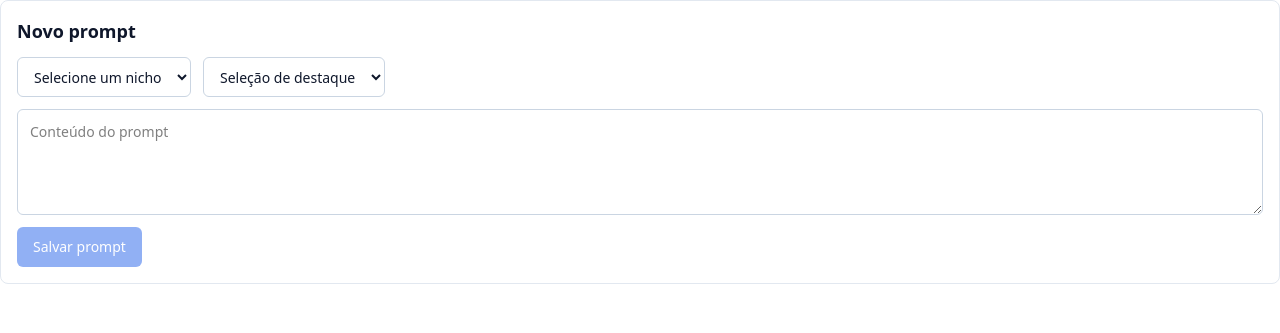
Test case: PromptTemplateForm › should create a prompt template and show the resulting version
Select "Futebol" in the 1st dropdown showing "Selecione um nicho" at (104, 77), box [17,57,191,97]
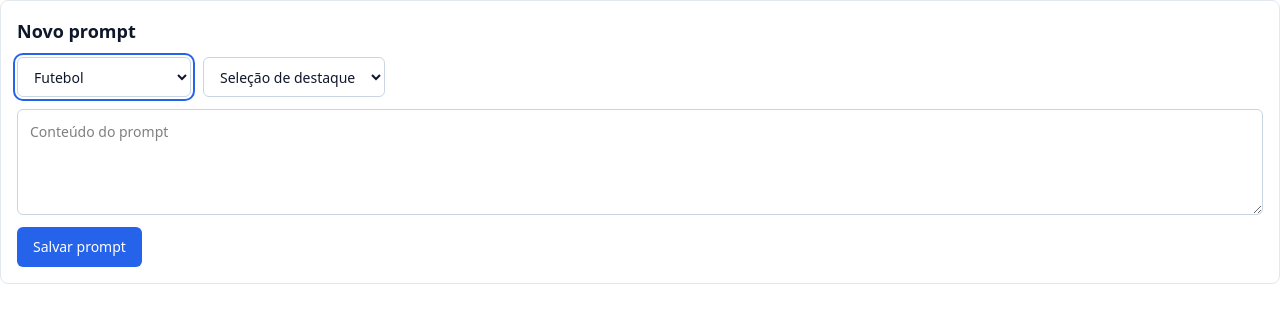
Type "Selecione os melhores momentos" into the text box with placeholder "Conteúdo do prompt" at (640, 162), box [17,109,1263,215]
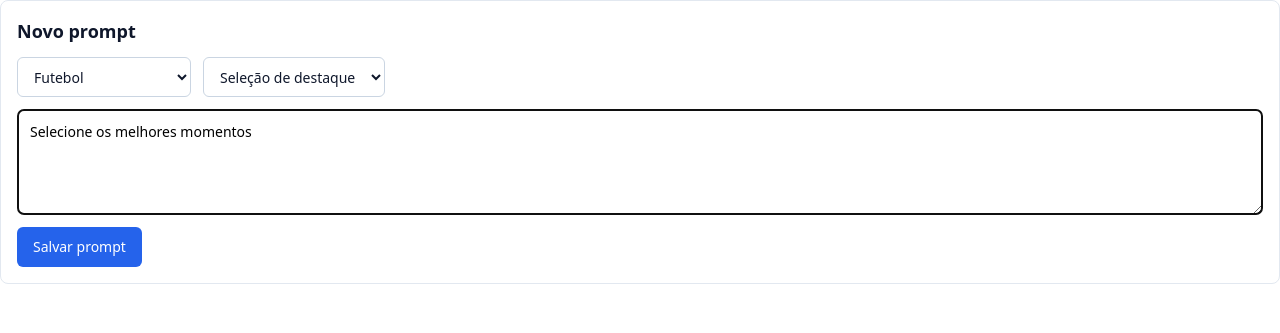
Click the button "Salvar prompt" at (79, 247), box [17,227,142,267]
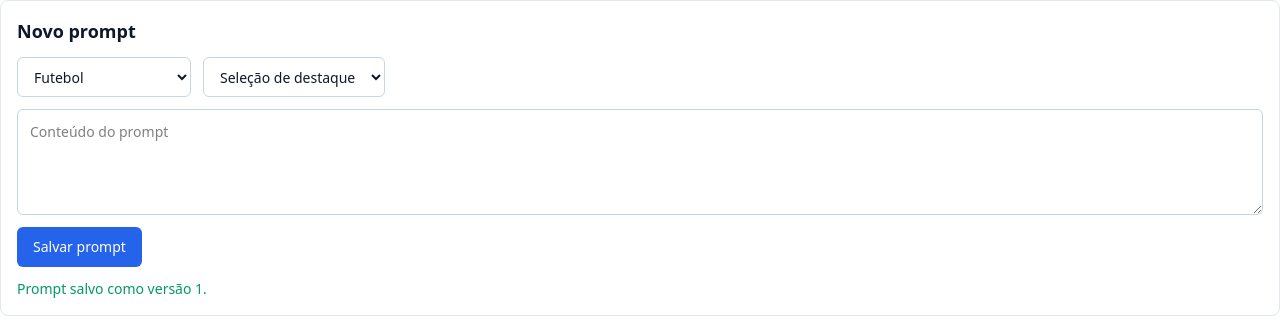
expect the text "Prompt salvo como versão 1." is shown: met, box [17,279,207,298]
